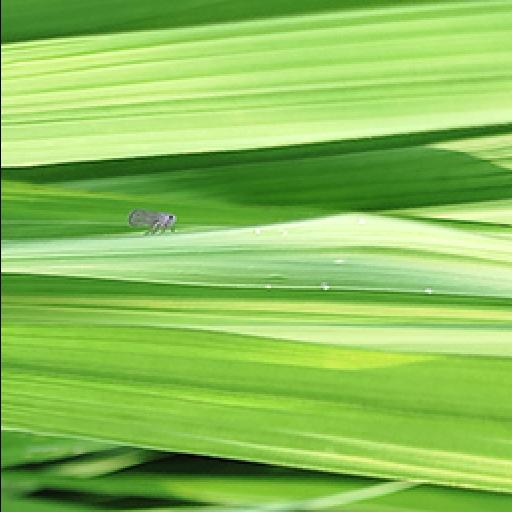Healthy Leaf: (2, 6, 502, 494)
